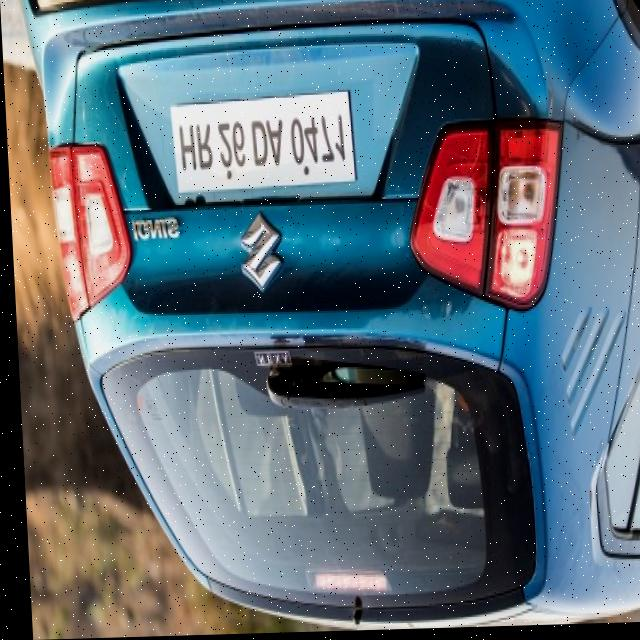plate: (168, 81, 354, 195)
